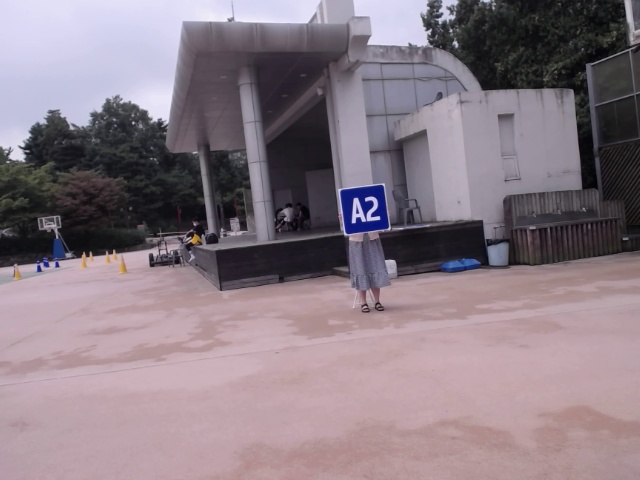delivery_a2: (339, 183, 391, 235)
